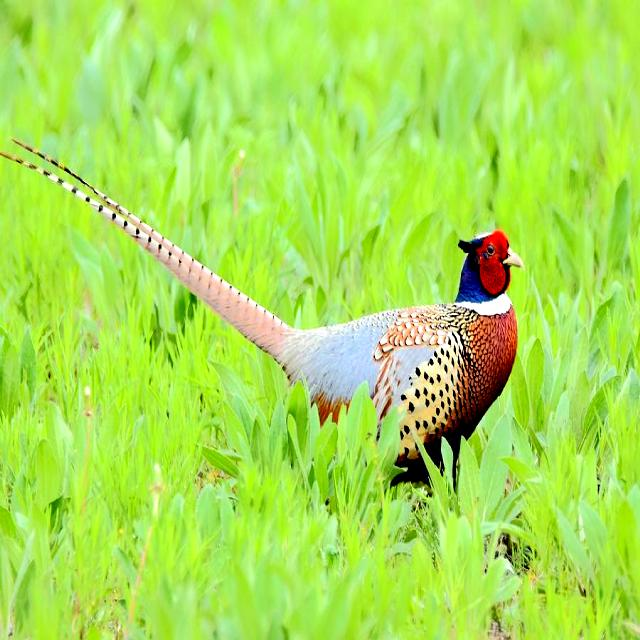Phasianus Colchicus: (0, 137, 298, 358)
